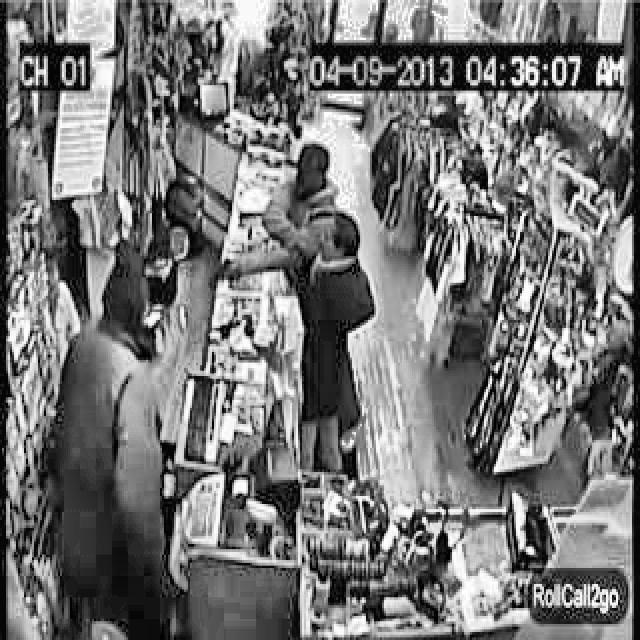robbery: (206, 138, 376, 482)
